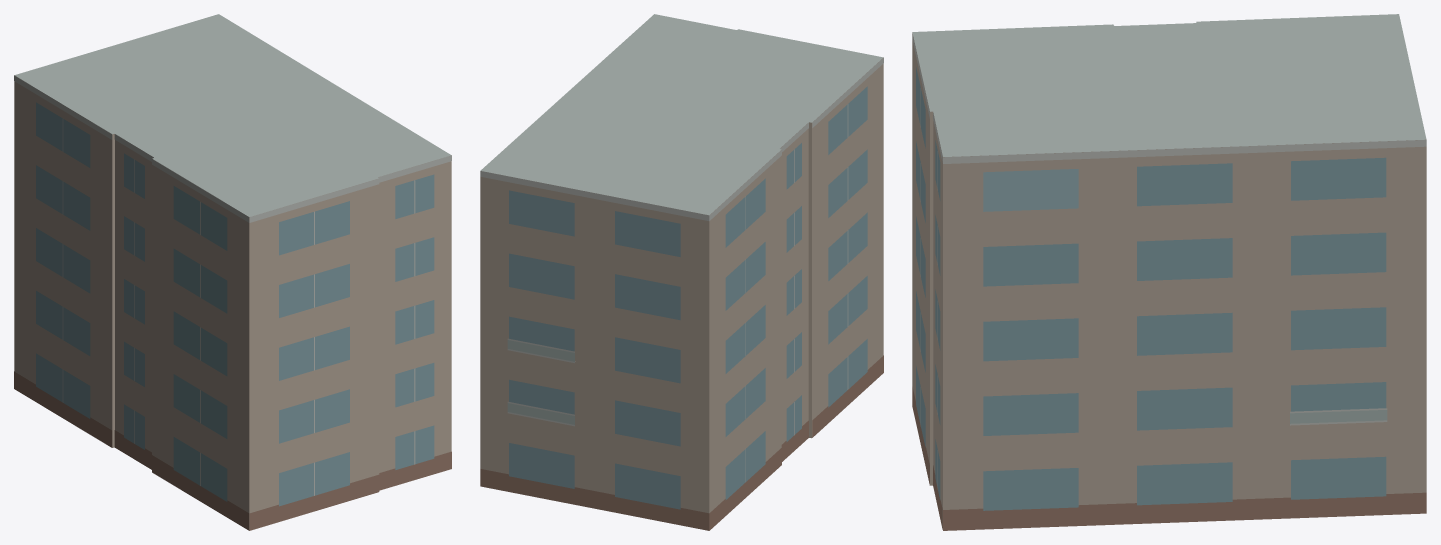
File: survey-upis-32666921.glb
3 renders of one model, left to right at view 1: azimuth 30°, elevation 25°; view 2: azimuth 150°, elevation 25°; view 3: azimuth 270°, elevation 25°, orthographic. The views are drawn at different scales.
Parts seen in each view (by area): view 1: survey-upis-32666921.tmp; view 2: survey-upis-32666921.tmp; view 3: survey-upis-32666921.tmp.
Part boxes in pixels (bbox=[...]): survey-upis-32666921.tmp: bbox=[14, 14, 451, 530]; survey-upis-32666921.tmp: bbox=[480, 14, 883, 530]; survey-upis-32666921.tmp: bbox=[912, 14, 1426, 530].
Bounding box in the file's own units: 10.68 × 13 × 16.22.
